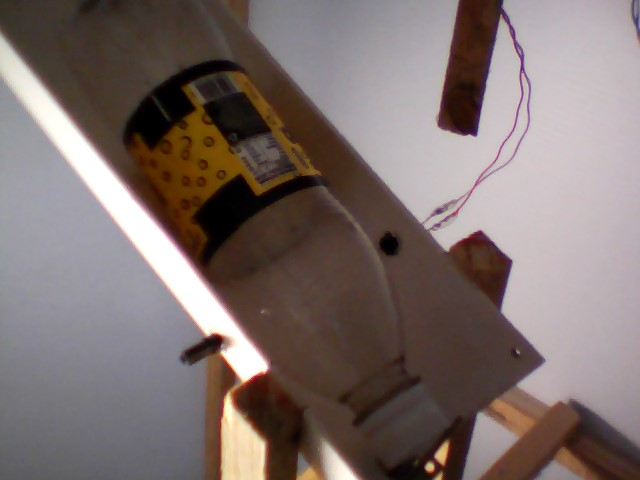plastico: (48, 1, 456, 473)
